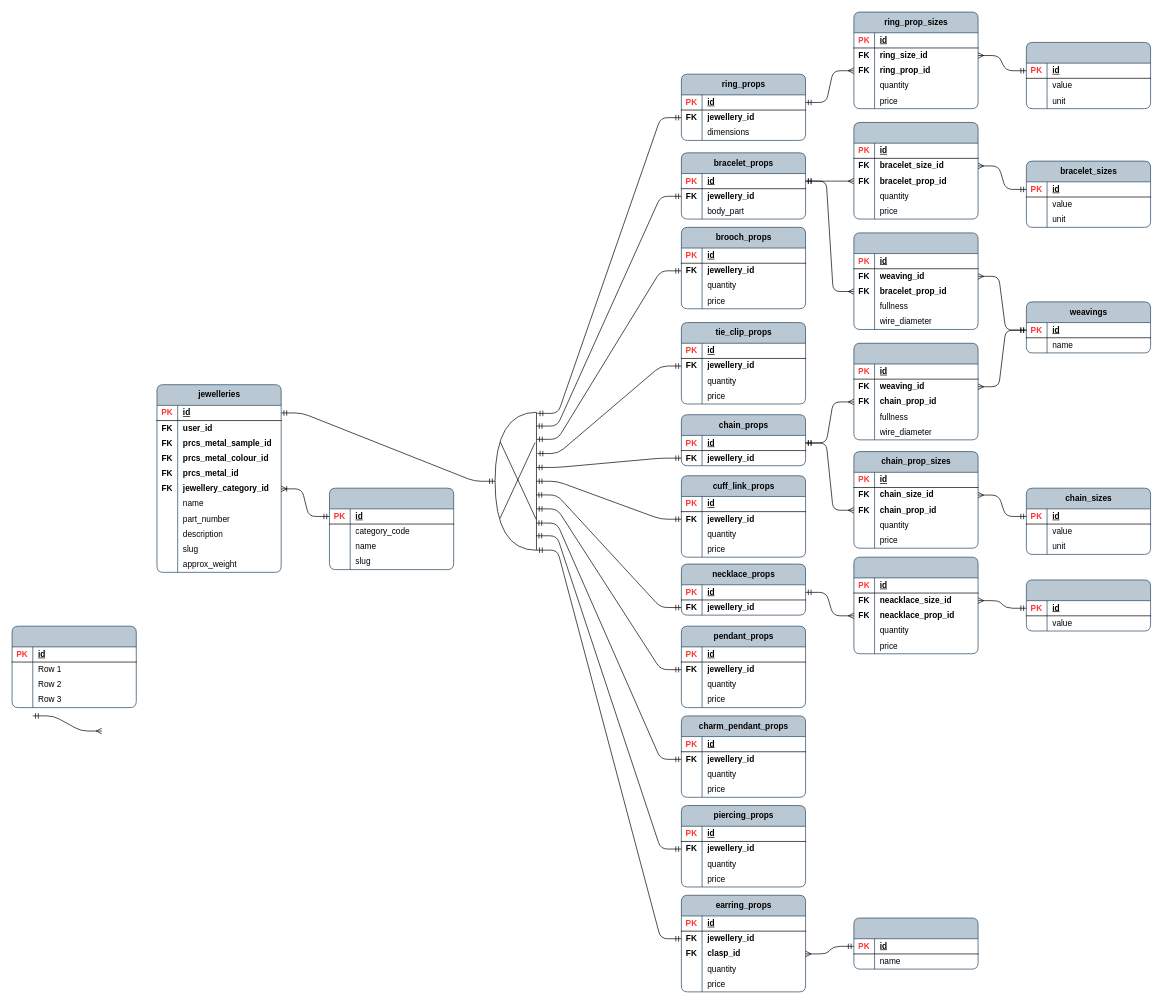
This 1163x1004 diagram has some shape labels left out. The shapes that lost their labels are listed below. From the top down, each one's box as (x1, y1, x2, y2) in pixels, then its label:
(1026, 42, 1151, 109): ring_sizes
(853, 122, 978, 219): bracelet_prop_sizes
(853, 232, 978, 329): bracelet_prop_weavings
(853, 343, 978, 440): chain_prop_weavings
(329, 487, 454, 570): jewellery_categories
(853, 556, 978, 654): necklace_prop_size
(1026, 579, 1151, 631): necklace_sizes
(11, 625, 136, 708): table_name
(853, 917, 978, 969): clasps
